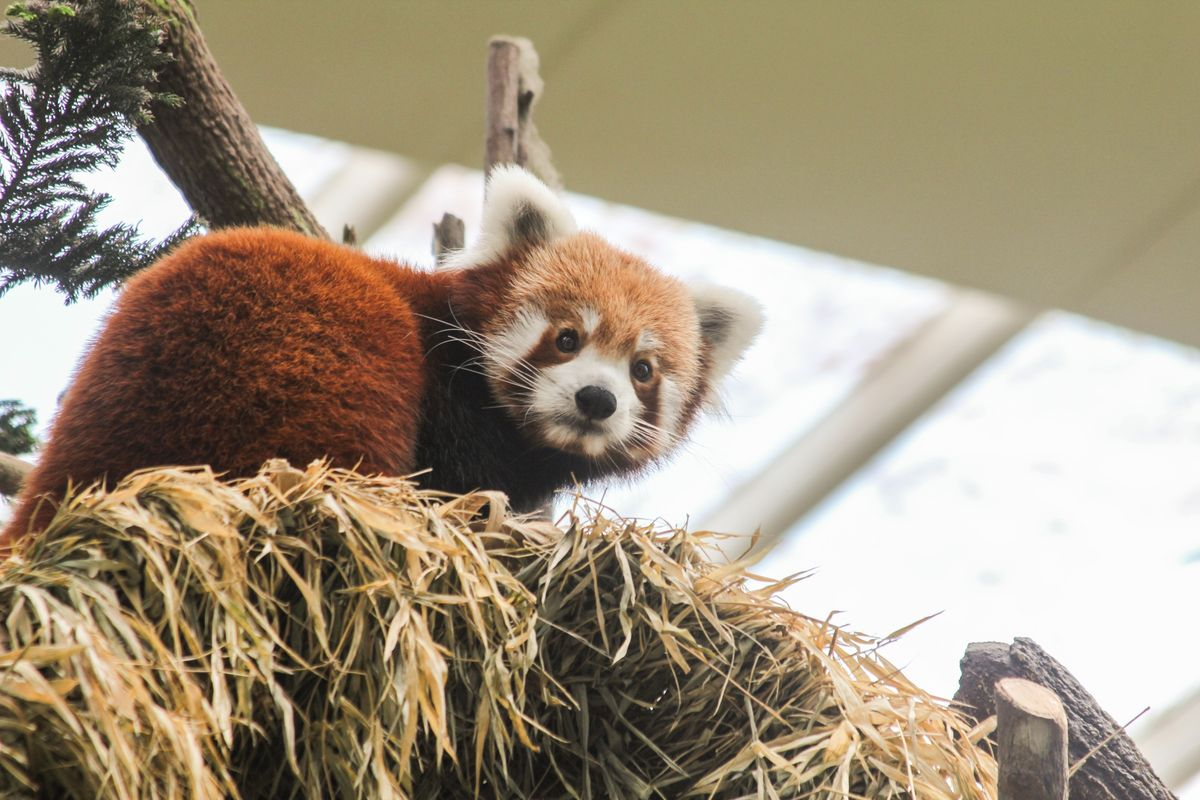red_panda: (0, 160, 773, 568)
